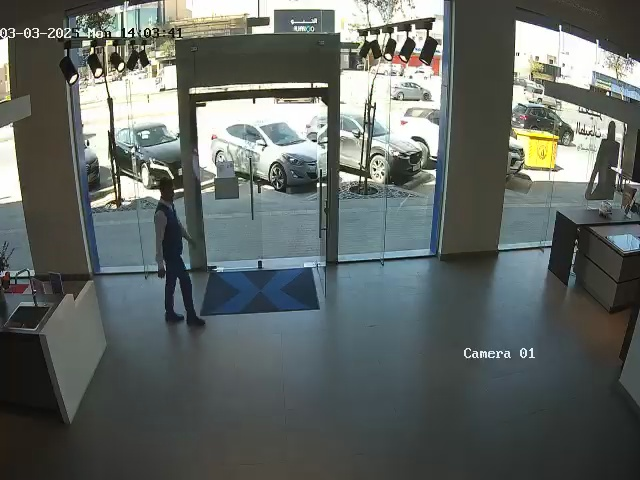employee: (154, 178, 206, 327)
